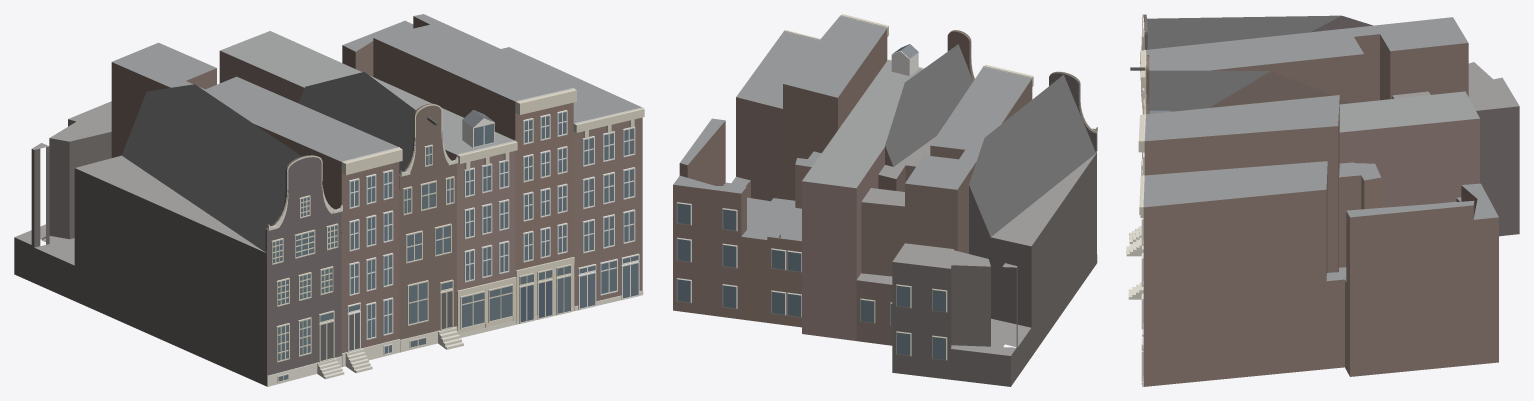
The model's file is chunk-face-wallen-ozv-115-125.glb.
The picture shows the model from 3 angles, left to right: view 1: azimuth 30°, elevation 25°; view 2: azimuth 150°, elevation 25°; view 3: azimuth 270°, elevation 25°; orthographic projection. The views are drawn at different scales.
Parts seen in each view (by area): view 1: face-wallen-ozv-115-125; view 2: face-wallen-ozv-115-125; view 3: face-wallen-ozv-115-125.
Boxes of the visible parts, x1,y1,x2,y2 form: face-wallen-ozv-115-125: (14,14,644,386); face-wallen-ozv-115-125: (673,14,1097,386); face-wallen-ozv-115-125: (1126,14,1519,386).
Size of the model in its own units: 33.09 by 16.9 by 26.07.
